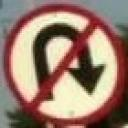NoVirarU: (5, 2, 127, 125)
